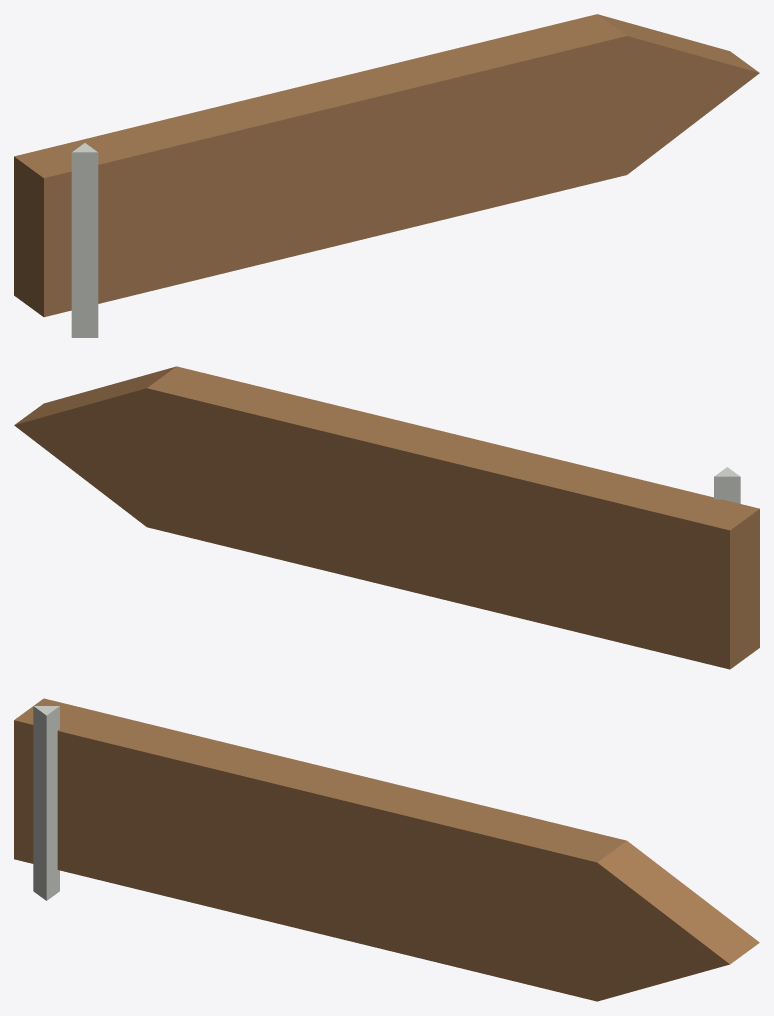
File: Marsh_SignPanel.fbx
3 views of the same model, one above another, from view 1: azimuth 30°, elevation 25°; view 2: azimuth 150°, elevation 25°; view 3: azimuth 330°, elevation 25° (orthographic).
Parts seen in each view (by area): view 1: Marsh_SignPanel; view 2: Marsh_SignPanel; view 3: Marsh_SignPanel.
Boxes of the visible parts, bbox=[...] form: Marsh_SignPanel: bbox=[14, 14, 759, 337]; Marsh_SignPanel: bbox=[14, 366, 759, 669]; Marsh_SignPanel: bbox=[14, 698, 759, 1001].
Size of the model in its own units: 97 by 24 by 9.56.
